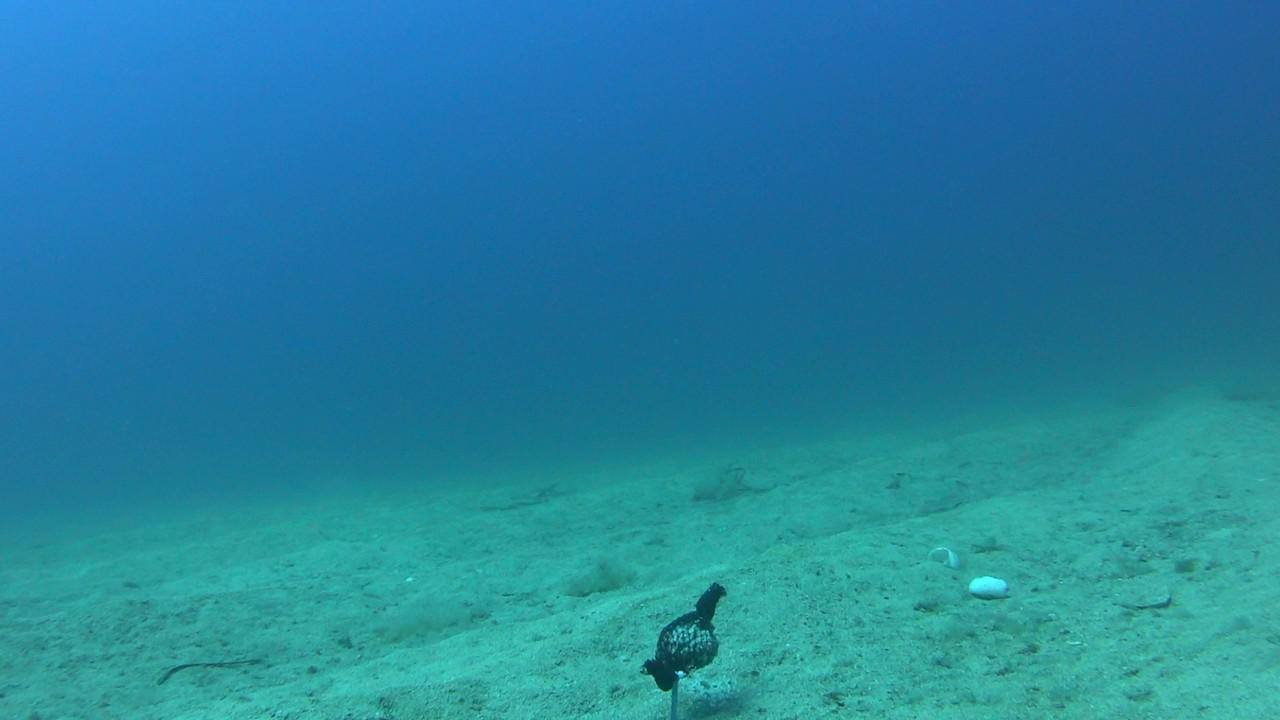myliobatis: (483, 468, 589, 523)
